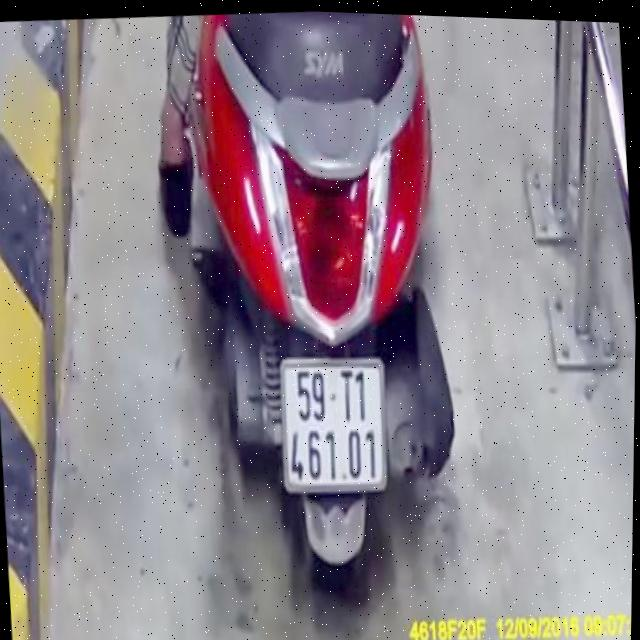motorcycle: (170, 7, 474, 617)
plate: (270, 350, 399, 498)
